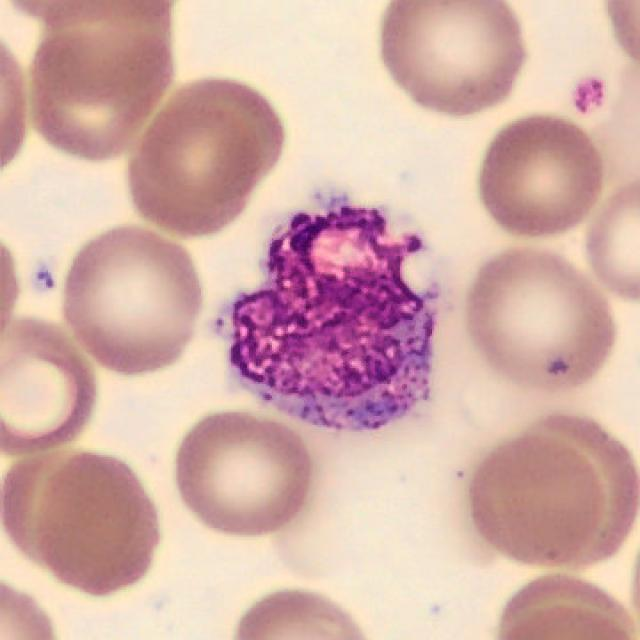Monocito: (231, 197, 434, 428)
